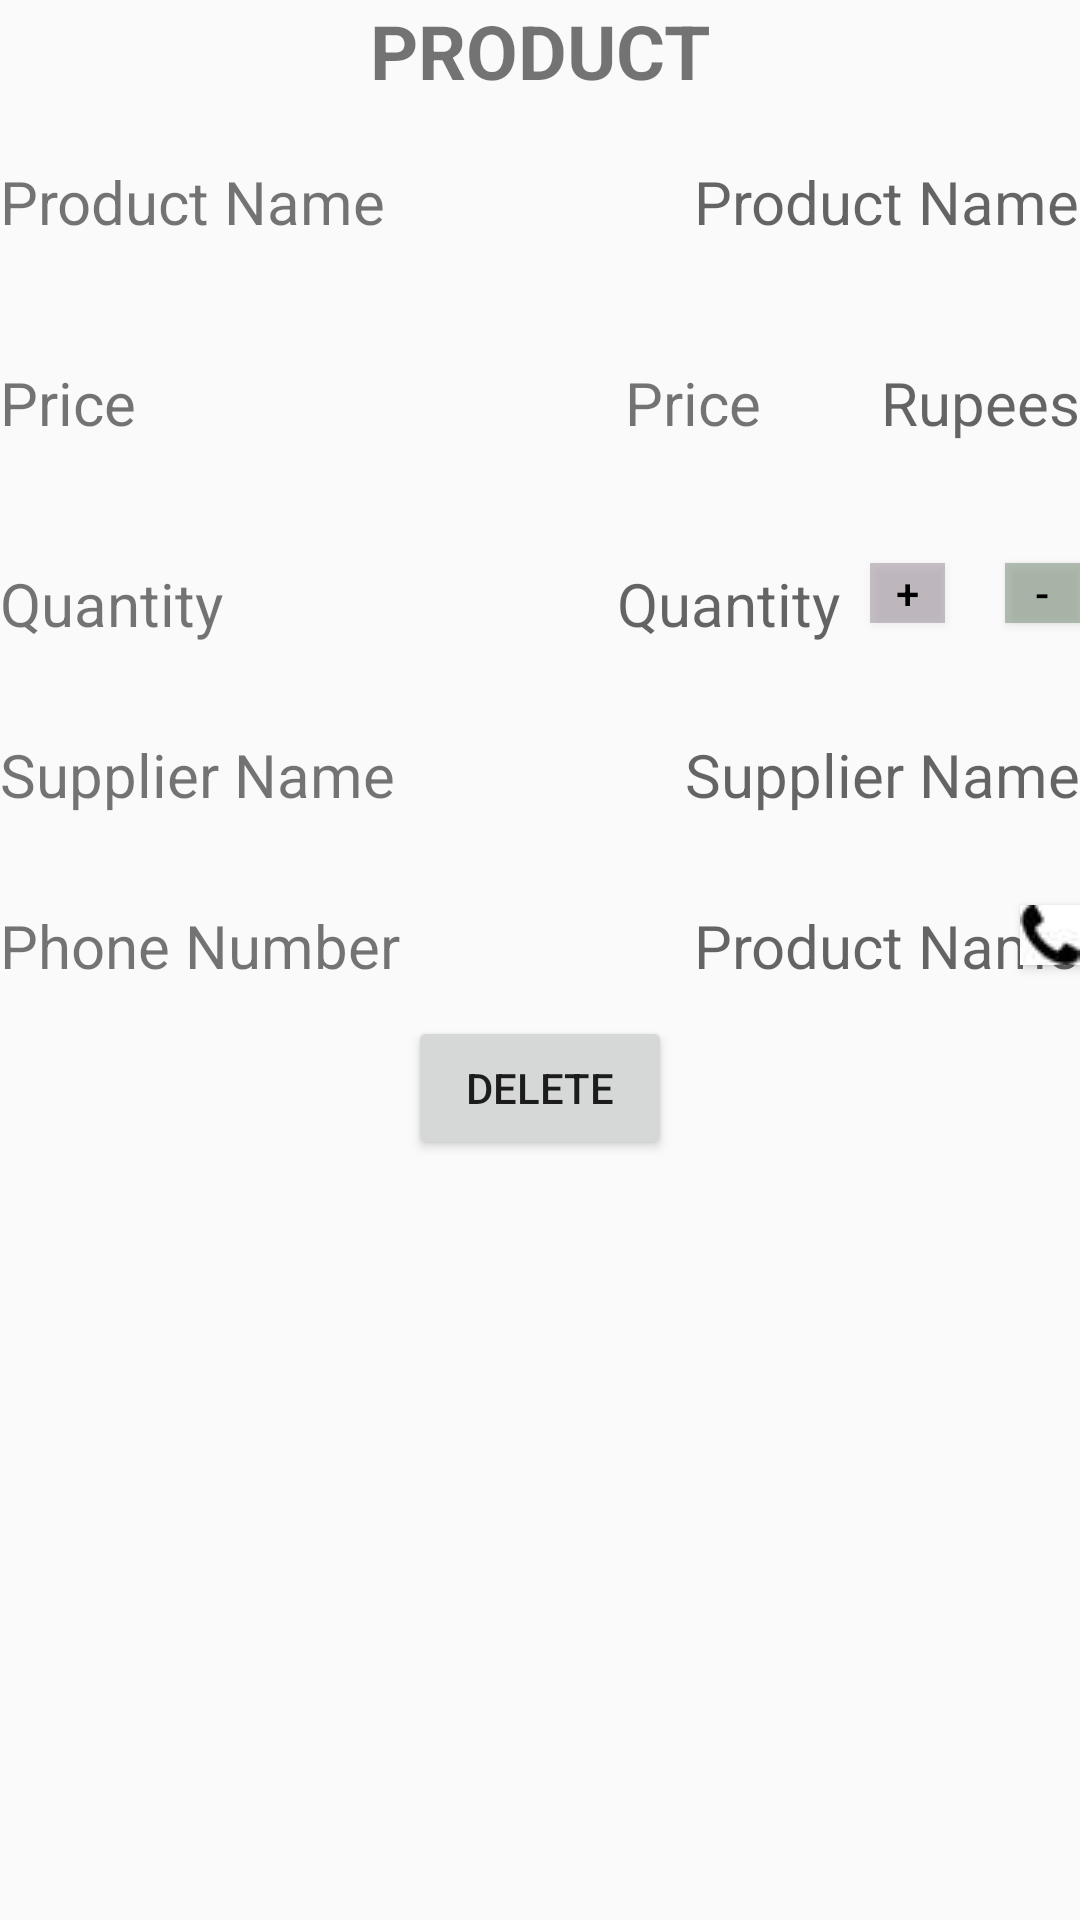

Screen size 1080 × 1920. Icon name, then its box in pixels as bbox(x1, y1, x2, y2):
call: bbox(1020, 905, 1080, 965)
